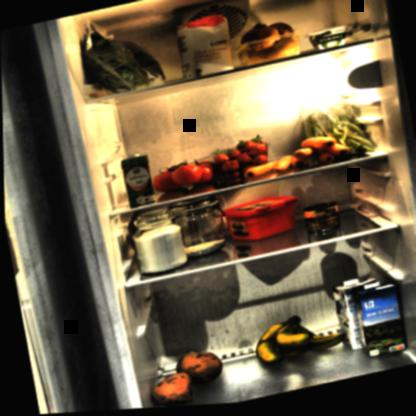banana: (247, 309, 347, 371)
butter: (216, 193, 304, 250)
carrot: (284, 134, 352, 175), (240, 156, 292, 184)
corn: (301, 204, 341, 240)
green_beans: (293, 90, 380, 175)
heavy_cream: (119, 152, 156, 210)
milk: (327, 276, 388, 359), (350, 280, 409, 364)
onion: (227, 18, 300, 71)
spinach: (60, 13, 175, 105)
strawberries: (210, 138, 270, 184)
sweet_potato: (142, 345, 227, 409)
tomato: (148, 155, 218, 198)
